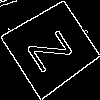Z: (26, 23, 82, 74)
